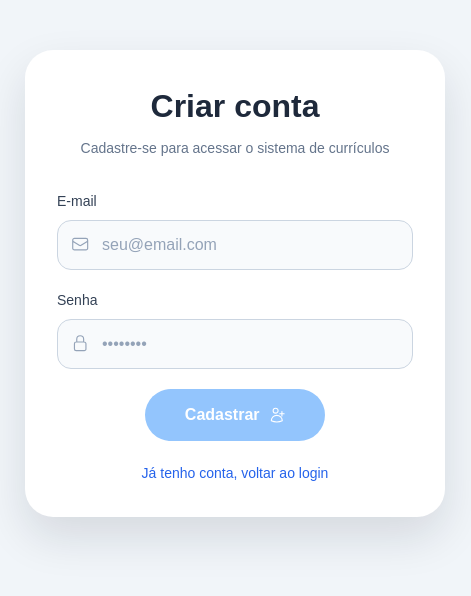
Scenario: CadastroPage › warns the user and does not redirect when the email is already taken
Step 1. Type "taken@example.com" into the field labelled "E-mail" → coordinates (235, 244), box [57, 220, 413, 270]
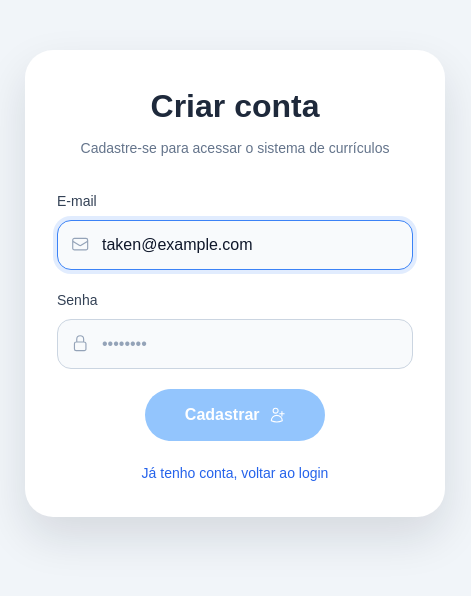
Step 2. Type "123456" into the password field labelled "Senha" → coordinates (235, 344), box [57, 318, 413, 368]
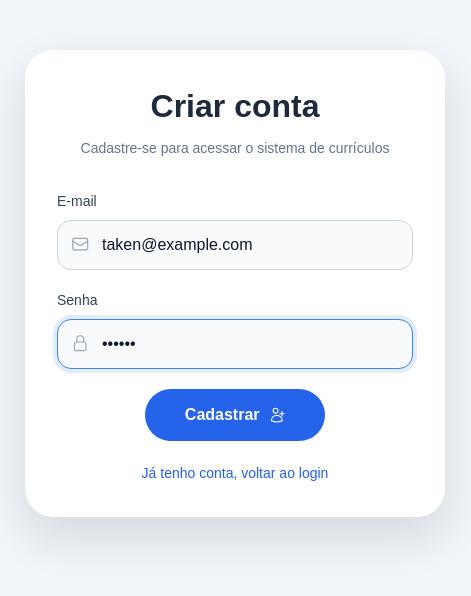
Step 3. Click the button "Cadastrar" → coordinates (235, 414), box [145, 388, 325, 440]
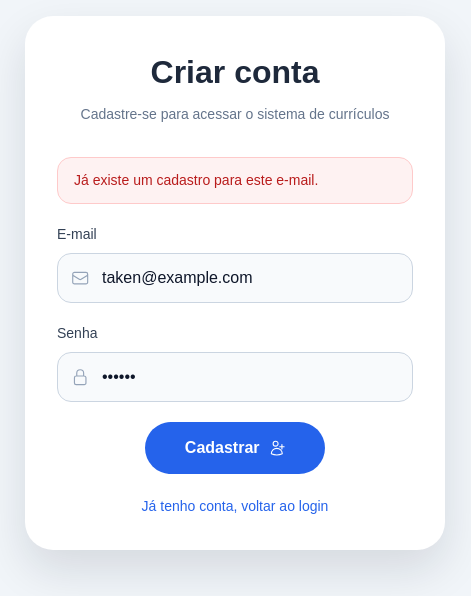
Check: the text "Já existe um cadastro para este e-mail." is shown, box [57, 157, 413, 204]
